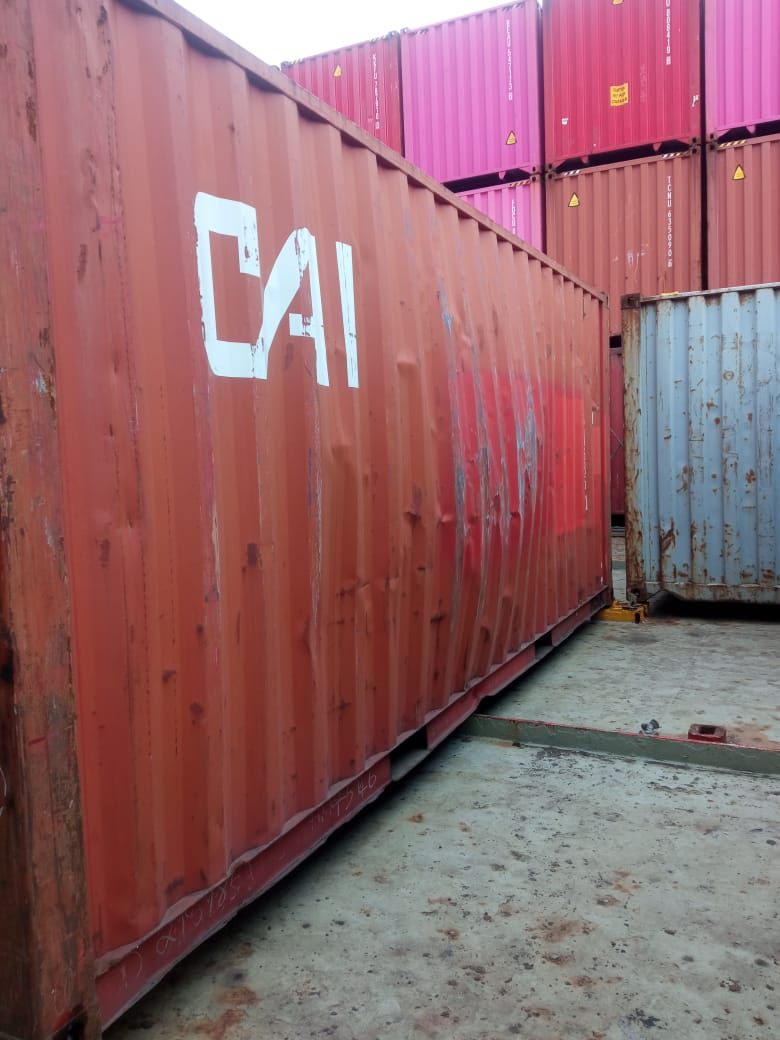bulged: (288, 343, 578, 603)
